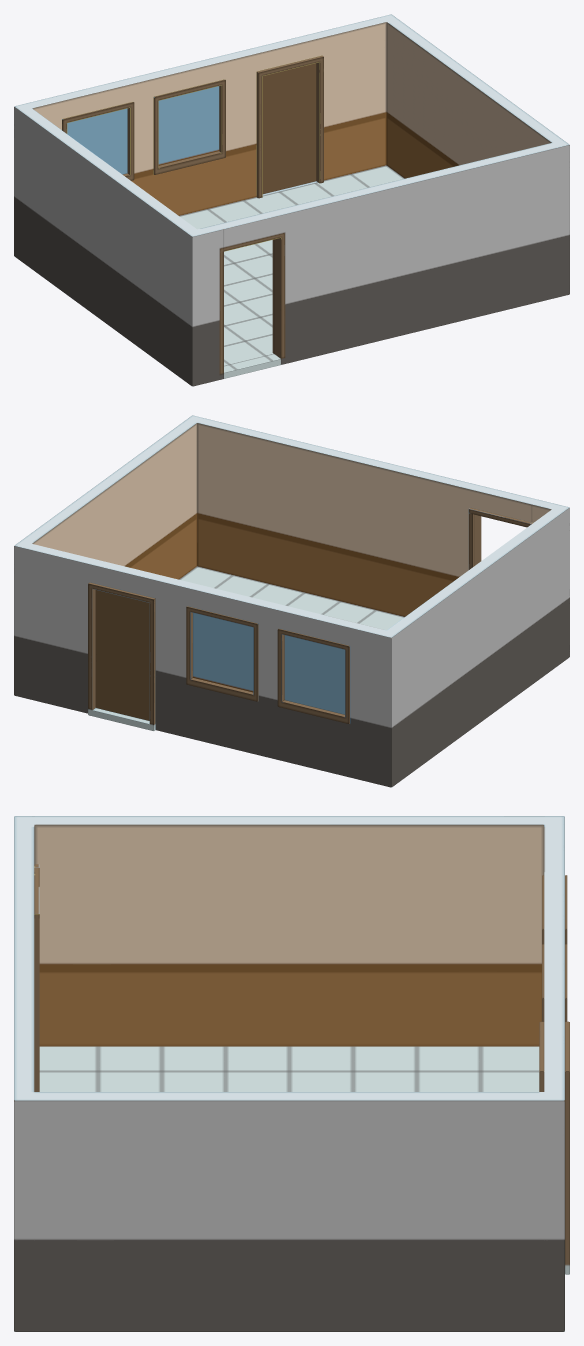
The model's file is kitchen.fbx.
The picture shows the model from 3 angles, top to bottom: view 1: azimuth 30°, elevation 25°; view 2: azimuth 150°, elevation 25°; view 3: azimuth 270°, elevation 25°; orthographic projection. The views are drawn at different scales.
Visible parts, largest first — view 1: cube, cube_1; view 2: cube, cube_1; view 3: cube, cube_1.
Boxes of the visible parts, box(x1,y1,x2,y2) form: cube: box(14, 14, 569, 386); cube_1: box(179, 165, 404, 378); cube: box(14, 415, 569, 787); cube_1: box(179, 566, 404, 630); cube: box(14, 816, 569, 1331); cube_1: box(39, 1046, 539, 1091).
Size of the model in its own units: 825 by 312 by 681.
Materials: 1 (1 with a texture image).
